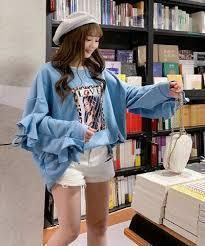short: (44, 145, 119, 186)
sweater: (10, 59, 180, 184)
